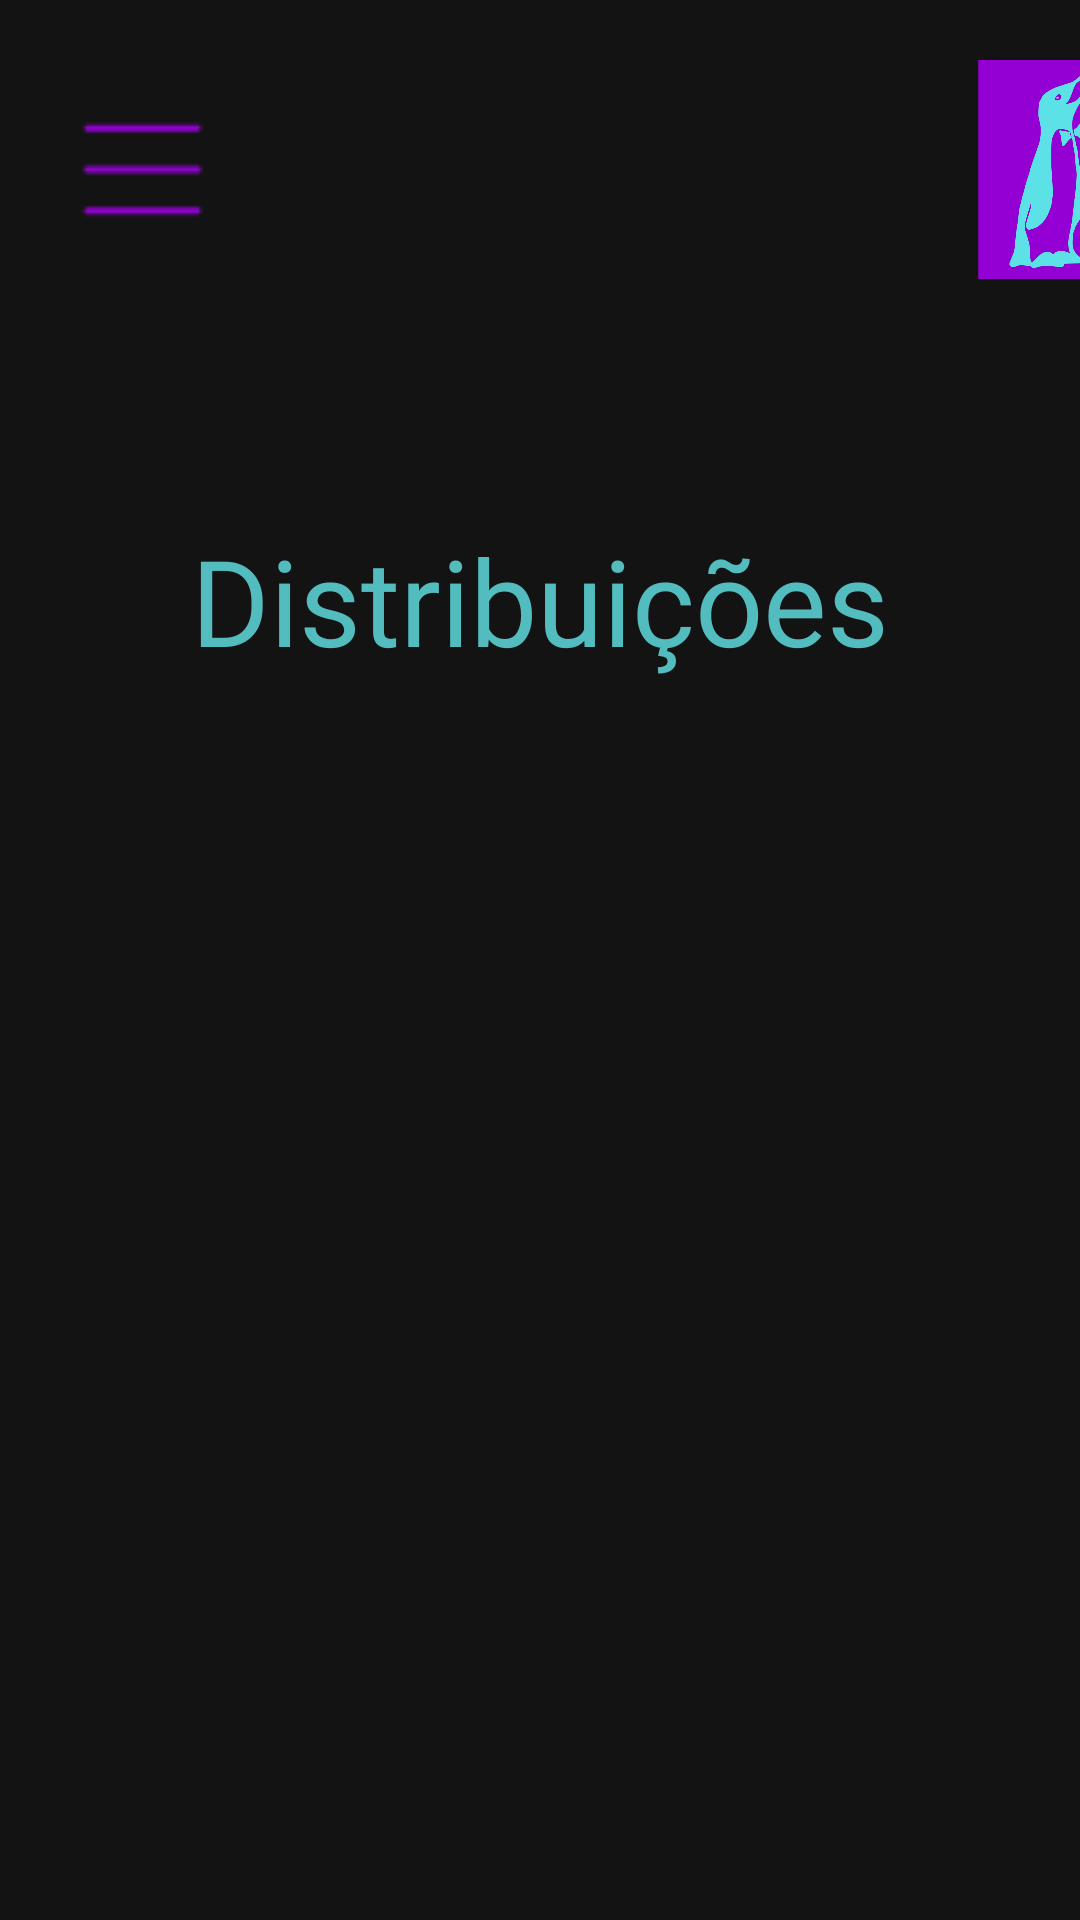

Icon bounding boxes for this 1080*1920 phone screenshot, format (x1, y1, x2, y2):
menu: (82, 123, 203, 216)
